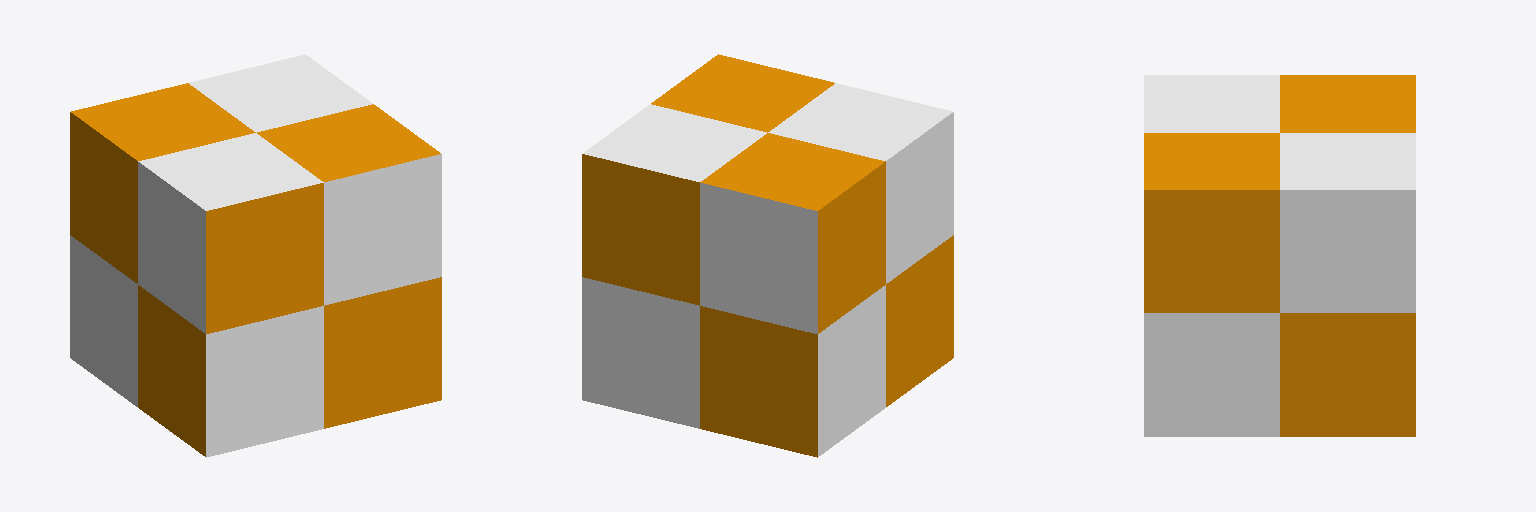
The picture shows the model from 3 angles: view 1: azimuth 30°, elevation 25°; view 2: azimuth 150°, elevation 25°; view 3: azimuth 270°, elevation 25°; orthographic projection.
Parts seen in each view (by area): view 1: Box001; view 2: Box001; view 3: Box001.
Boxes of the visible parts, <box> form: Box001: <box>70,54,441,457</box>; Box001: <box>582,54,953,457</box>; Box001: <box>1144,75,1415,436</box>.
Bounding box in the file's own units: 100 × 100 × 100.
1 materials, 1 textured.